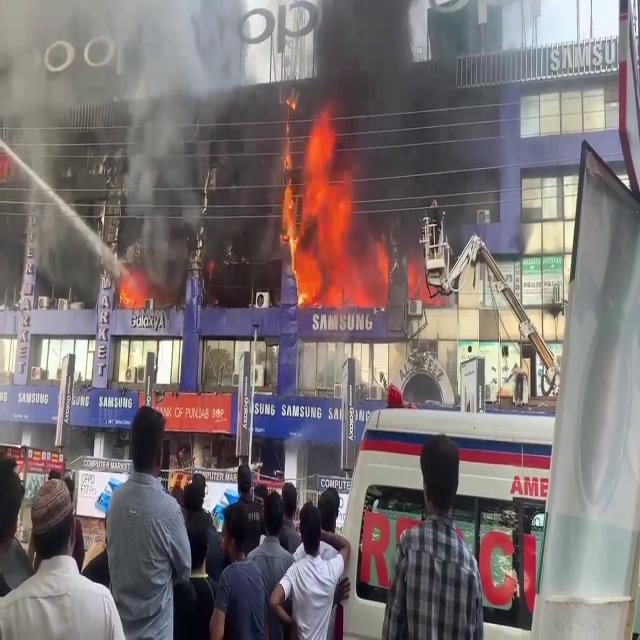Fire: (294, 117, 390, 308), (280, 95, 302, 284), (116, 266, 178, 312), (407, 229, 430, 308)
Smoke: (342, 50, 494, 251), (126, 0, 274, 88), (122, 90, 207, 232), (10, 29, 82, 176), (318, 0, 406, 65)
